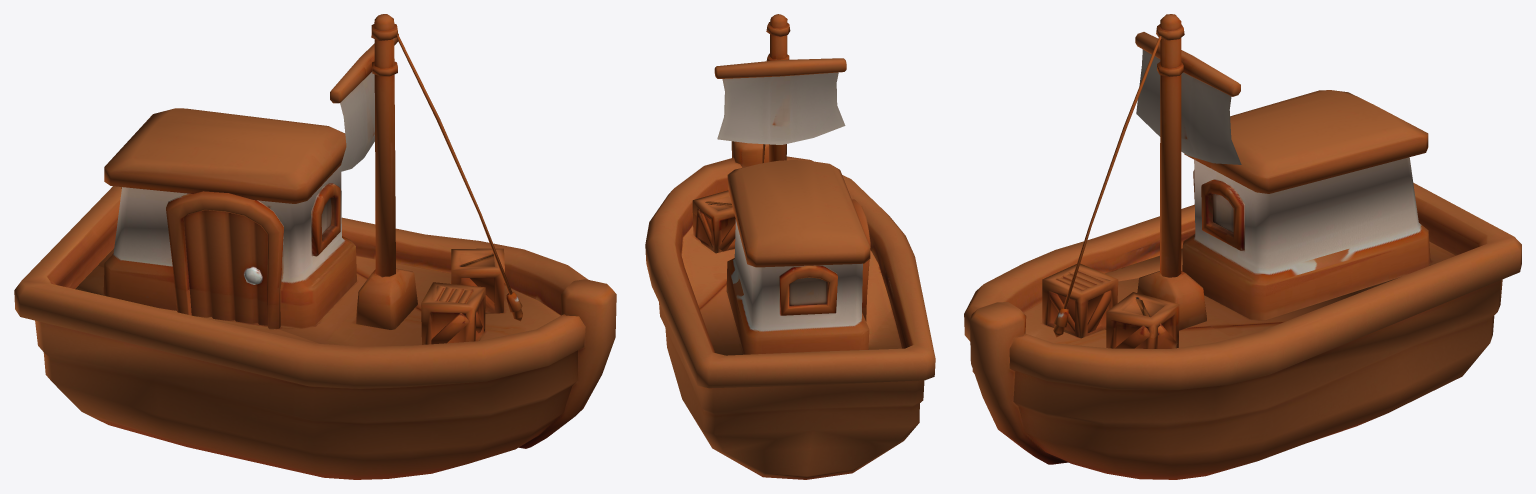
File: boat.glb
3 renders of one model, left to right at view 1: azimuth 30°, elevation 25°; view 2: azimuth 150°, elevation 25°; view 3: azimuth 270°, elevation 25°, orthographic. The views are drawn at different scales.
Visible parts, largest first — view 1: tripo_node_77ba4277-4412-402b-908d-04d73c8ab358; view 2: tripo_node_77ba4277-4412-402b-908d-04d73c8ab358; view 3: tripo_node_77ba4277-4412-402b-908d-04d73c8ab358.
Boxes of the visible parts, x1,y1,x2,y2 form: tripo_node_77ba4277-4412-402b-908d-04d73c8ab358: (14,14,616,479); tripo_node_77ba4277-4412-402b-908d-04d73c8ab358: (645,14,935,479); tripo_node_77ba4277-4412-402b-908d-04d73c8ab358: (964,14,1521,479).
Bounding box in the file's own units: 0.8497 × 0.8301 × 0.9405.
Materials: 1 (1 with a texture image).
